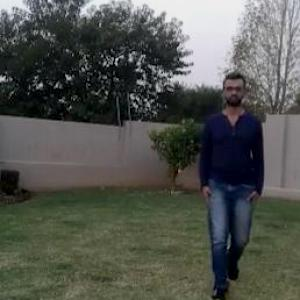follow: (199, 81, 262, 277)
